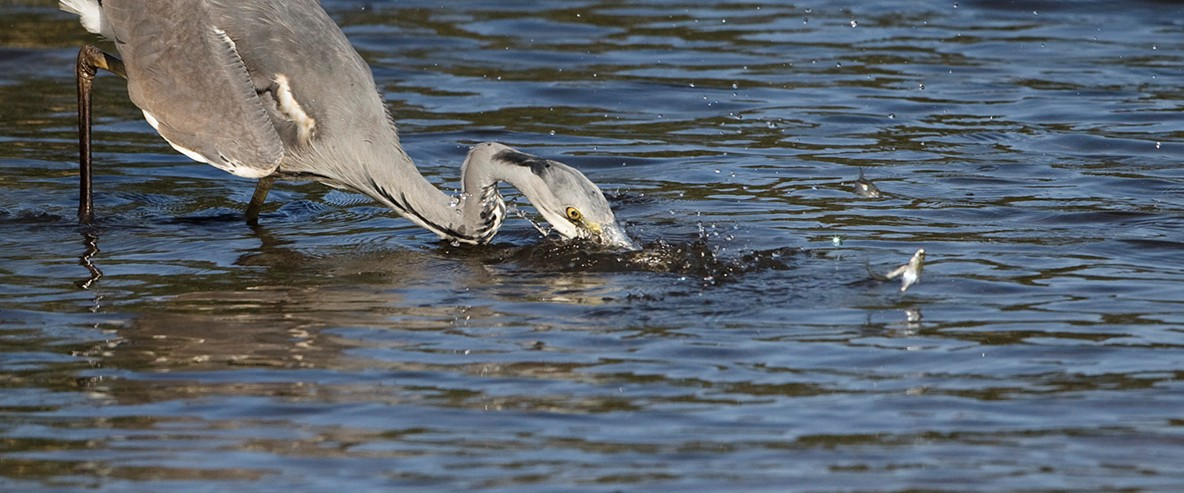heron: (5, 1, 647, 255)
